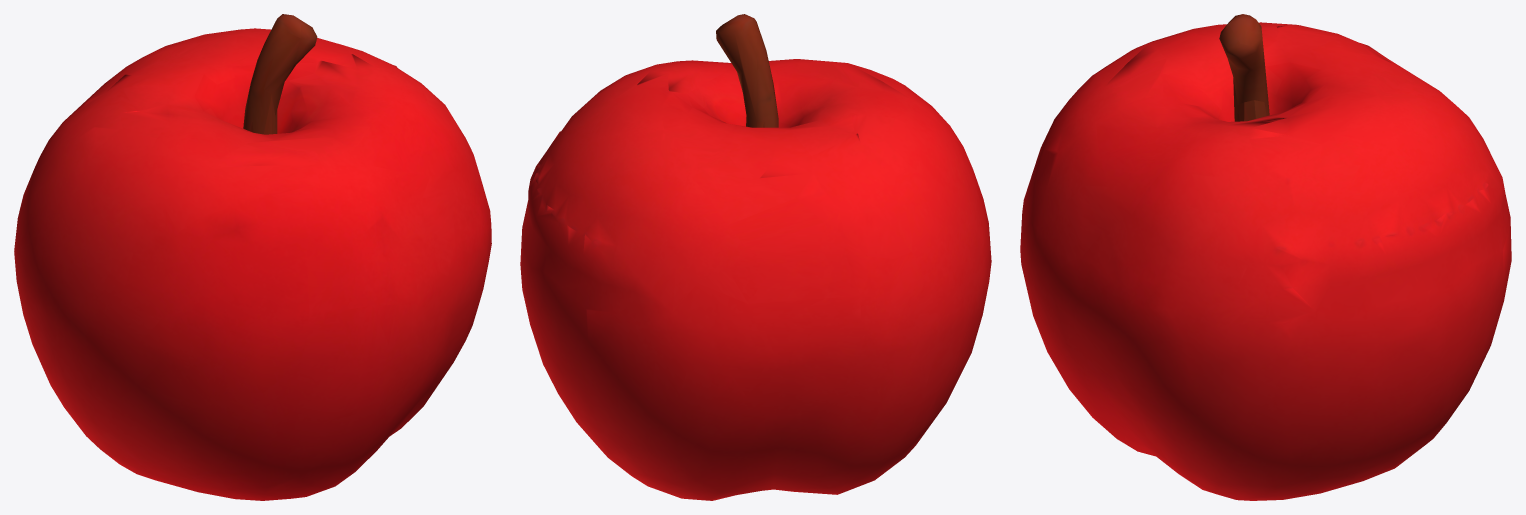
The model's file is apple.fbx.
3 renders of one model, left to right at view 1: azimuth 30°, elevation 25°; view 2: azimuth 150°, elevation 25°; view 3: azimuth 270°, elevation 25°, orthographic. The views are drawn at different scales.
Visible parts, largest first — view 1: tripo_node_a655dd8c; view 2: tripo_node_a655dd8c; view 3: tripo_node_a655dd8c.
Boxes of the visible parts, left/top/right/bottom form: tripo_node_a655dd8c: left=14, top=14, right=491, bottom=500; tripo_node_a655dd8c: left=520, top=14, right=991, bottom=500; tripo_node_a655dd8c: left=1020, top=14, right=1511, bottom=500.
Size of the model in its own units: 0.0746 by 0.075 by 0.0743.
1 material, 1 textured.
